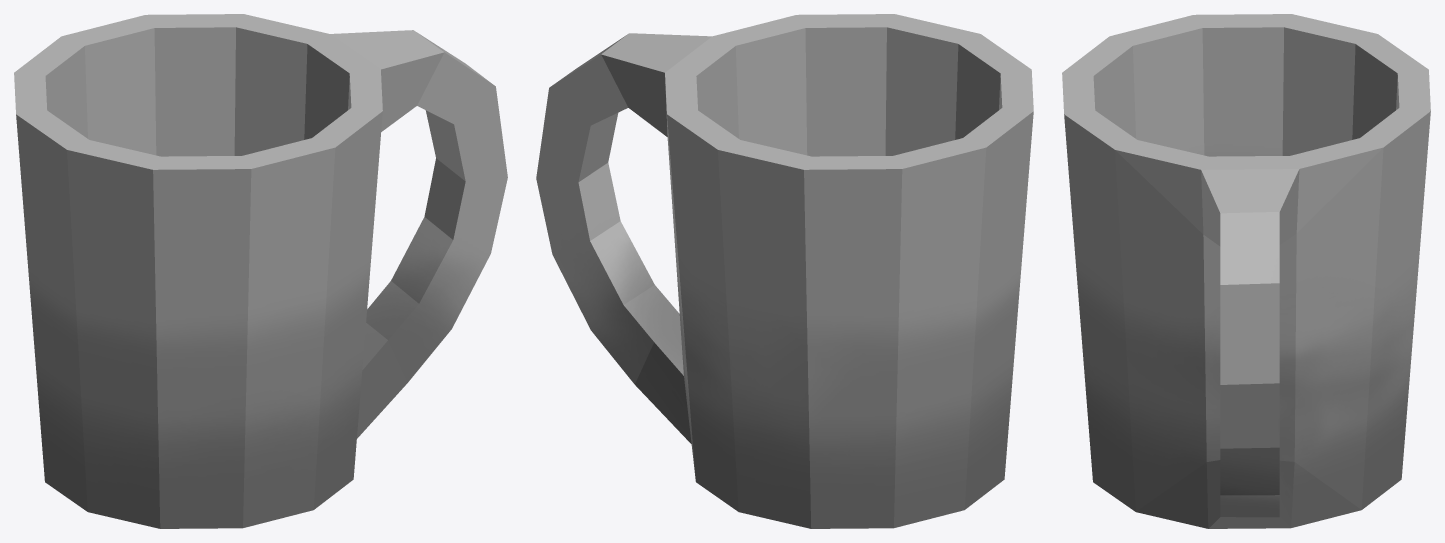
Rendered from Taza.fbx.
3 views of the same model, side by side, from view 1: azimuth 30°, elevation 25°; view 2: azimuth 150°, elevation 25°; view 3: azimuth 270°, elevation 25° (orthographic).
Parts seen in each view (by area): view 1: Cylinder; view 2: Cylinder; view 3: Cylinder.
Part boxes in pixels (<box>): Cylinder: <box>14,14,507,528</box>; Cylinder: <box>536,14,1033,528</box>; Cylinder: <box>1062,14,1430,528</box>.
Bounding box in the file's own units: 257 × 200 × 180.
